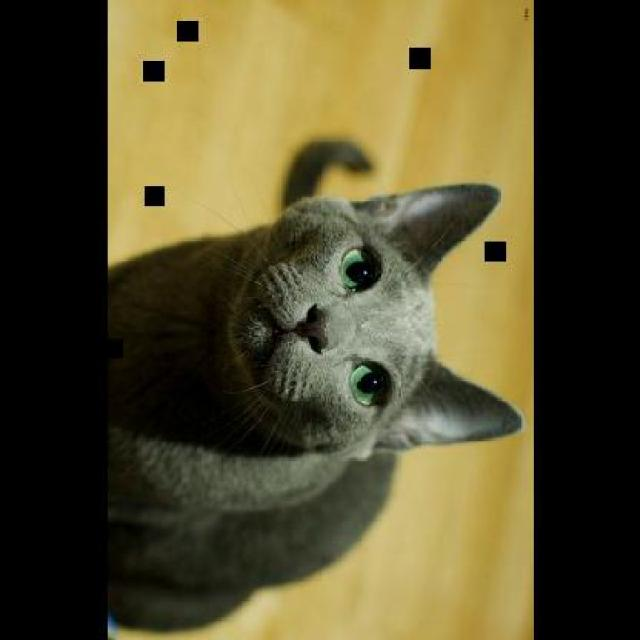unauthorized: (106, 137, 525, 631)
